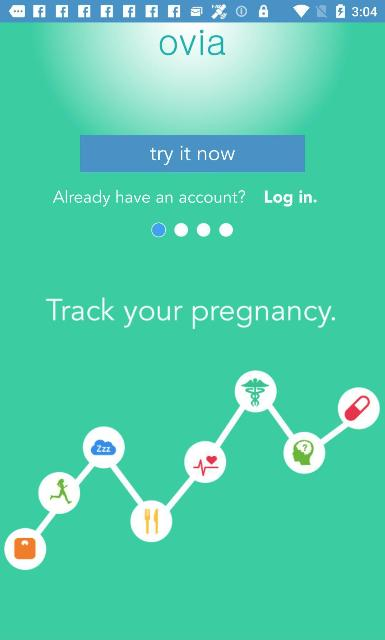Image: (4, 370, 380, 570)
PageIndicator: (150, 222, 234, 238)
Text: (45, 296, 335, 328), (53, 189, 245, 207), (160, 29, 226, 55), (150, 145, 234, 165), (264, 190, 318, 207)
TextButton: (80, 135, 304, 173)
UpperTaskBar: (0, 0, 384, 22)
